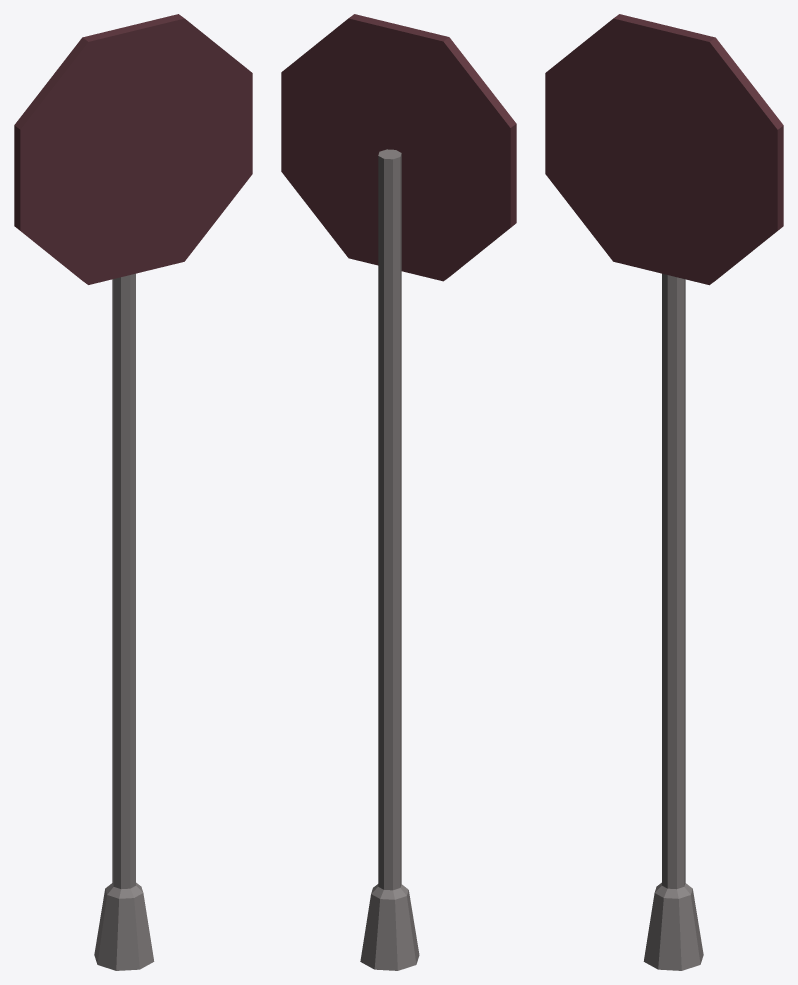
The model's file is props-traffic-sign-no-entry.glb.
3 views of the same model, side by side, from view 1: azimuth 30°, elevation 25°; view 2: azimuth 150°, elevation 25°; view 3: azimuth 330°, elevation 25° (orthographic).
Parts seen in each view (by area): view 1: traffic-sign-no-entry; view 2: traffic-sign-no-entry; view 3: traffic-sign-no-entry.
Part boxes in pixels (x1,y1,x2,y2): traffic-sign-no-entry: [14, 14, 252, 970]; traffic-sign-no-entry: [281, 14, 516, 970]; traffic-sign-no-entry: [545, 14, 783, 970].
Size of the model in its own units: 0.6564 by 2.53 by 0.1519.
